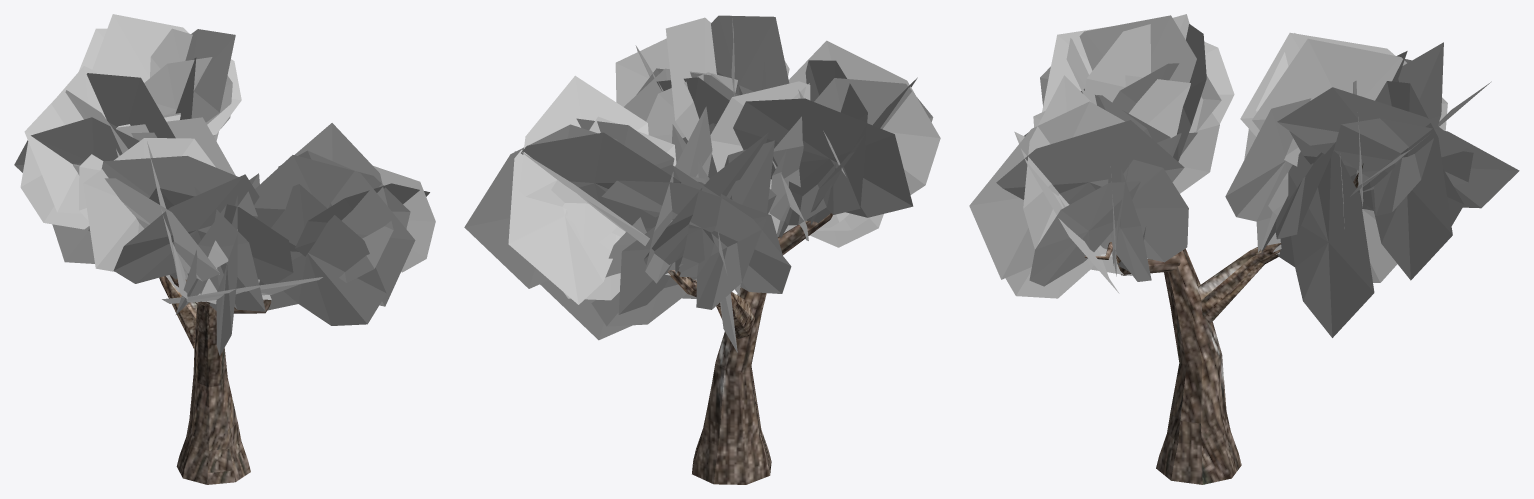
Rendered from Oak_004.fbx.
The picture shows the model from 3 angles, left to right: view 1: azimuth 30°, elevation 25°; view 2: azimuth 150°, elevation 25°; view 3: azimuth 270°, elevation 25°; orthographic projection. The views are drawn at different scales.
Visible parts, largest first — view 1: Tree_Oak_Leaves4, Tree_Oak_Trunk4; view 2: Tree_Oak_Leaves4, Tree_Oak_Trunk4; view 3: Tree_Oak_Leaves4, Tree_Oak_Trunk4.
Part boxes in pixels (x1,y1,x2,y2): Tree_Oak_Leaves4: (14, 14, 435, 355); Tree_Oak_Trunk4: (159, 275, 271, 484); Tree_Oak_Leaves4: (464, 15, 940, 352); Tree_Oak_Trunk4: (668, 213, 832, 484); Tree_Oak_Leaves4: (969, 14, 1519, 337); Tree_Oak_Trunk4: (1084, 163, 1363, 484).
Bounding box in the file's own units: 1254 × 1500 × 1747.
